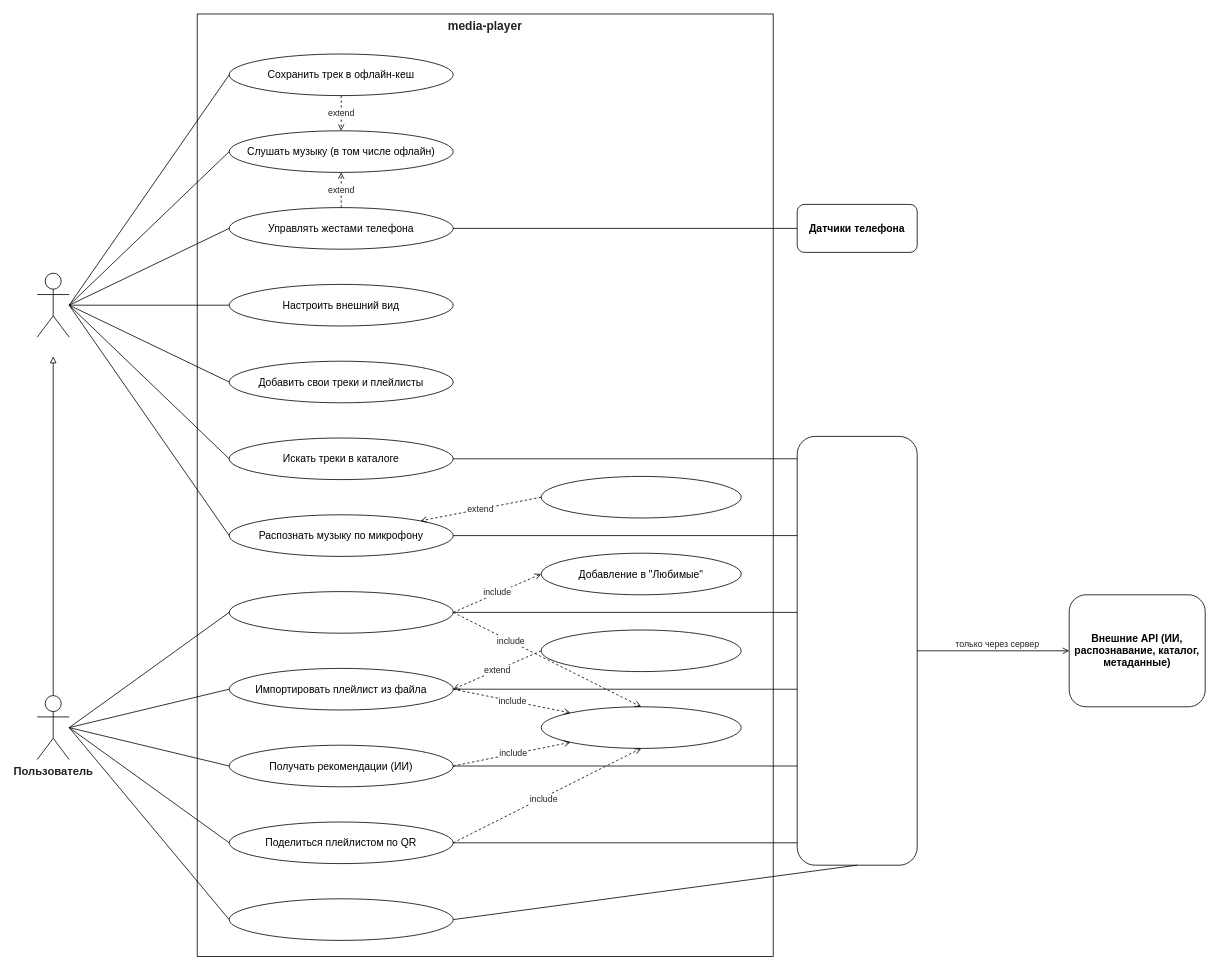
Some shapes in this 1219 by 970 pixel diagram are drawn without their labels. The shapes that lost their labels are listed below. From the top down, each one's box as (x1, y1, x2, y2) in pixels, then its label:
(36, 272, 69, 337): Гость
(540, 476, 741, 518): Найти похожую музыку
(228, 591, 453, 633): Лайкать и комментировать трек
(540, 629, 741, 672): Подтвердить сомнительные совпадения
(796, 436, 917, 865): Сервер приложения
(540, 706, 741, 748): Войти / зарегистрироваться
(228, 898, 453, 940): Управлять приватностью (отключить историю, сбросить профиль)
